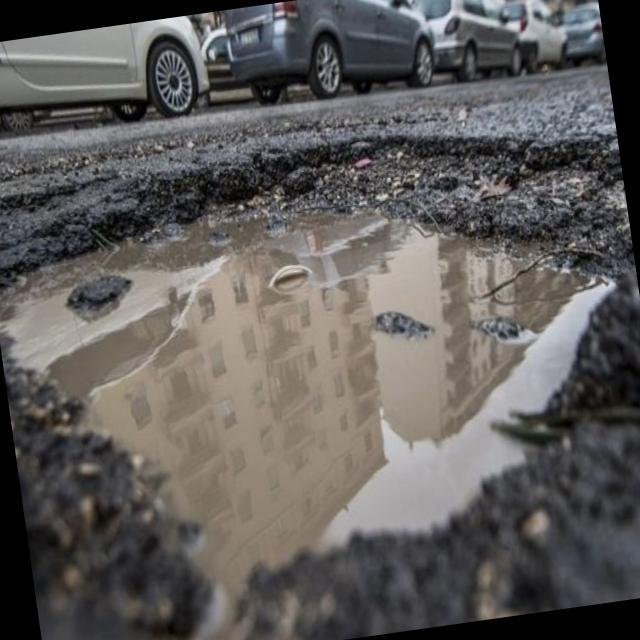Pothole: (0, 93, 640, 628)
